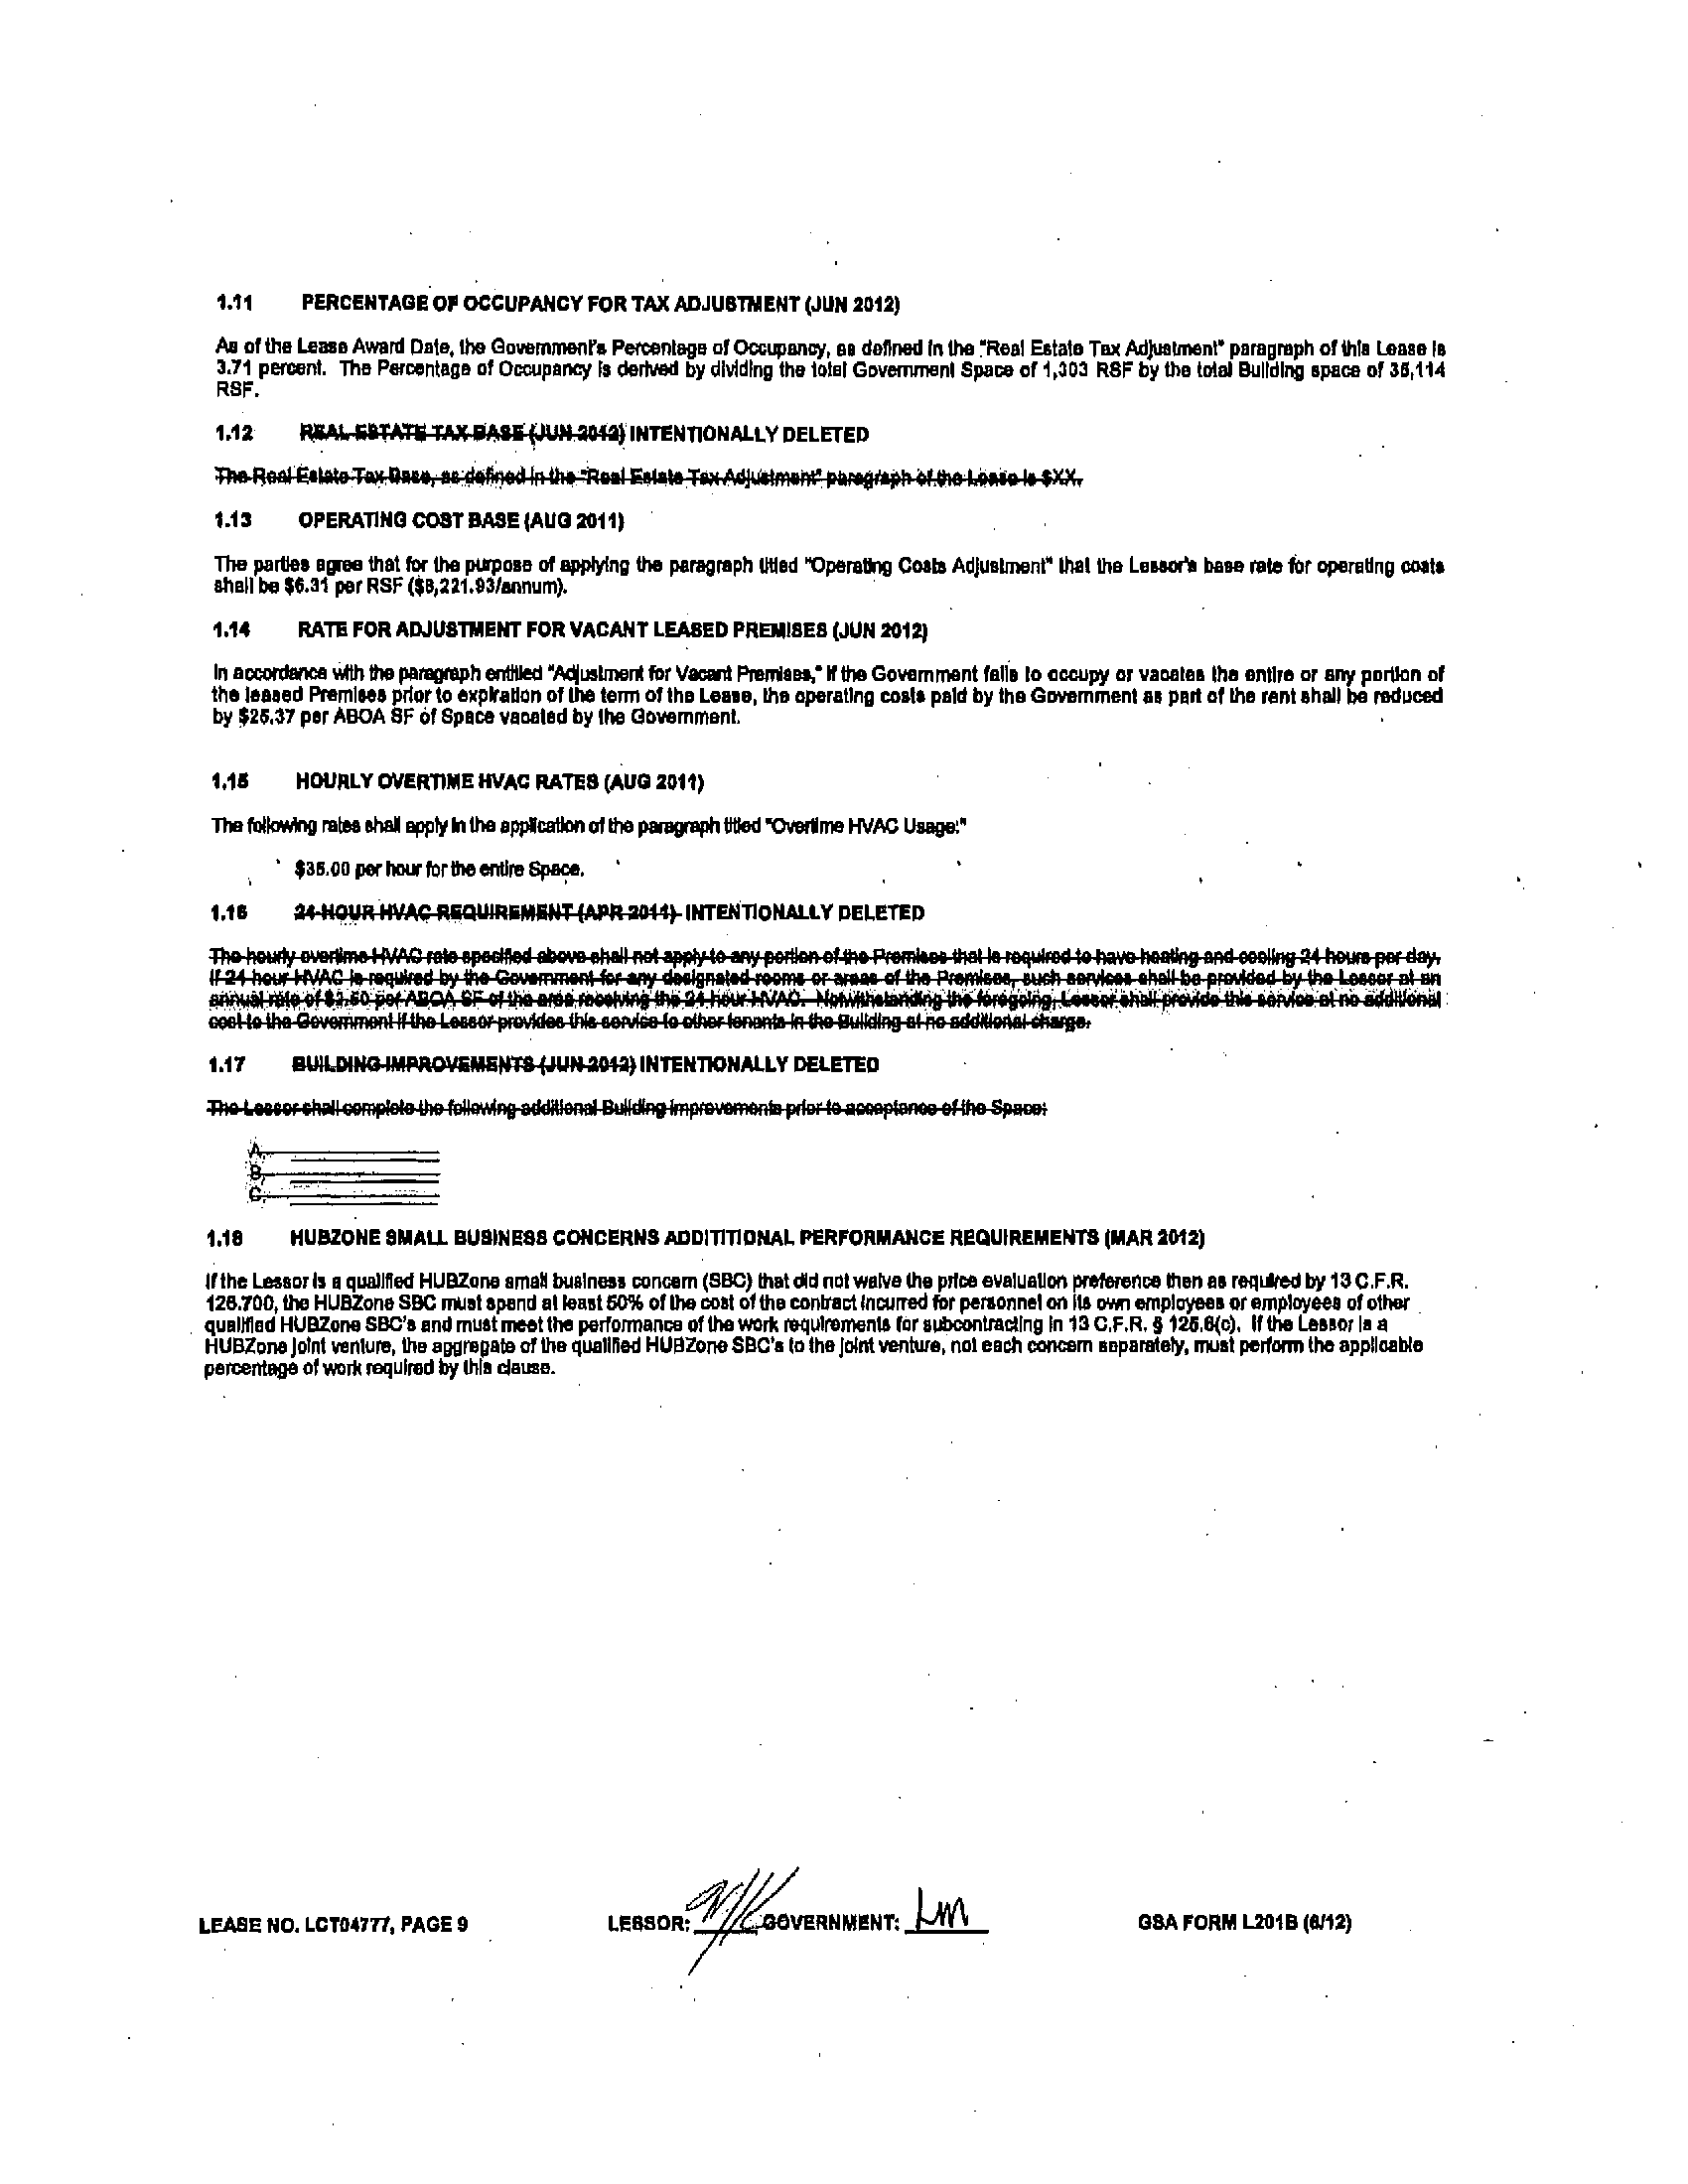handwritten: (663, 1842, 796, 1982), (899, 1867, 988, 1930)
